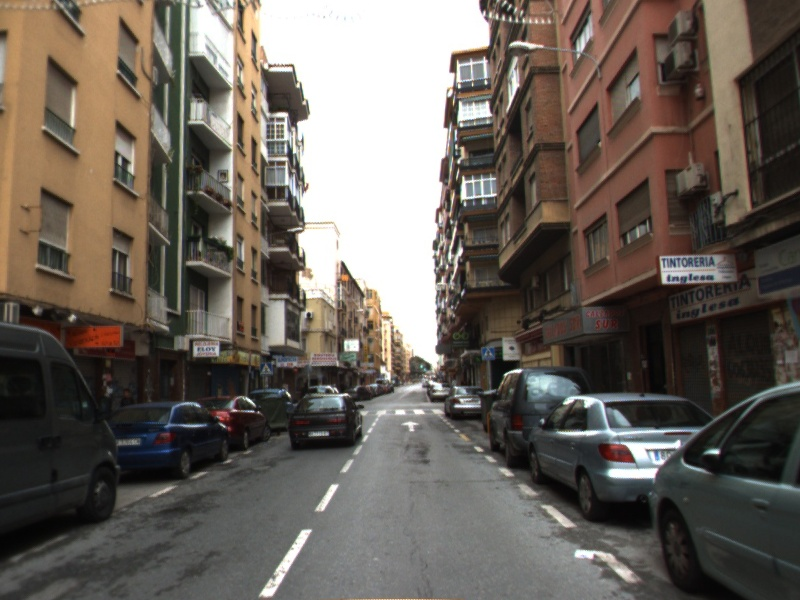STRAIGHT: (399, 419, 422, 433)
